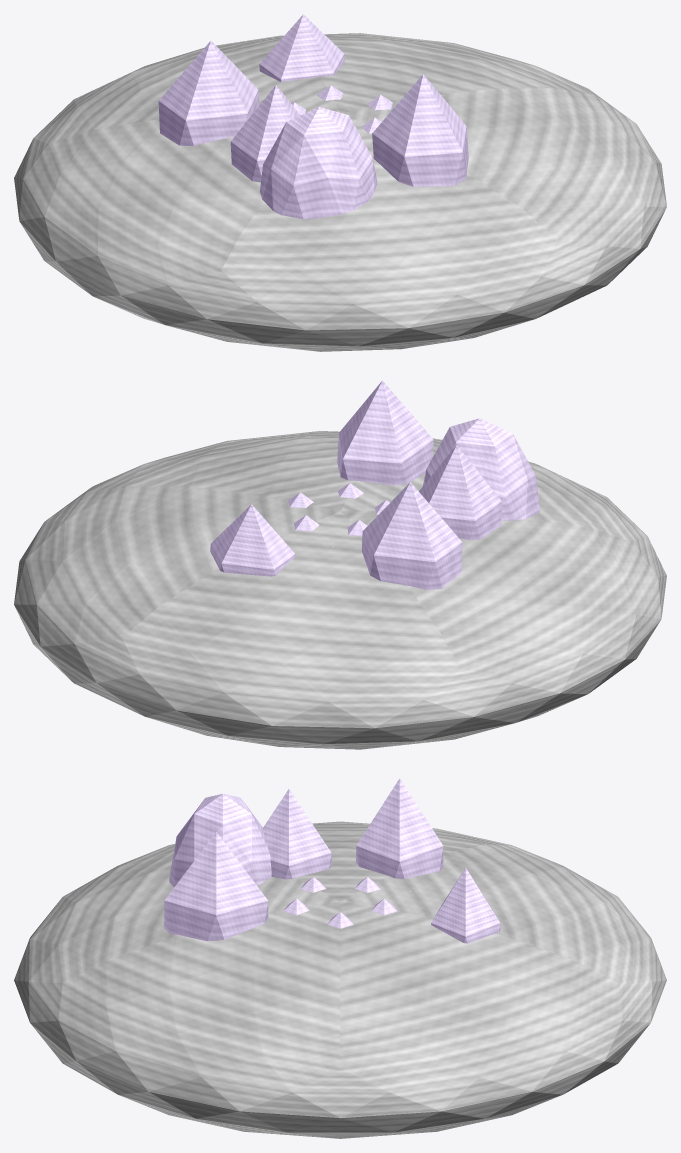
The model's file is sam_node_variant_a.glb.
3 renders of one model, top to bottom at view 1: azimuth 30°, elevation 25°; view 2: azimuth 150°, elevation 25°; view 3: azimuth 270°, elevation 25°, orthographic.
Parts seen in each view (by area): view 1: Resource node bedrock, Exposed ore formation.007, Exposed ore formation.008, Exposed ore formation.005, Exposed ore formation.003, Exposed ore formation.006; view 2: Resource node bedrock, Exposed ore formation.005, Exposed ore formation.008, Exposed ore formation.007, Exposed ore formation.006, Exposed ore formation.003; view 3: Resource node bedrock, Exposed ore formation.008, Exposed ore formation.005, Exposed ore formation.007, Exposed ore formation.006, Exposed ore formation.003.
Boxes of the visible parts, <box> form: Resource node bedrock: <box>14,33,666,351</box>; Exposed ore formation.007: <box>260,107,377,219</box>; Exposed ore formation.008: <box>372,74,468,186</box>; Exposed ore formation.005: <box>158,41,259,145</box>; Exposed ore formation.003: <box>259,14,344,81</box>; Exposed ore formation.006: <box>230,85,300,182</box>; Resource node bedrock: <box>14,431,666,749</box>; Exposed ore formation.005: <box>362,482,462,589</box>; Exposed ore formation.008: <box>337,380,433,485</box>; Exposed ore formation.007: <box>423,418,539,520</box>; Exposed ore formation.006: <box>419,445,501,540</box>; Exposed ore formation.003: <box>210,504,295,576</box>; Resource node bedrock: <box>14,821,666,1138</box>; Exposed ore formation.008: <box>164,832,268,941</box>; Exposed ore formation.005: <box>356,778,443,878</box>; Exposed ore formation.007: <box>169,793,271,887</box>; Exposed ore formation.006: <box>262,789,331,879</box>; Exposed ore formation.003: <box>431,868,500,943</box>.
Size of what is drawn, in the model's own units: 6.4 by 2.56 by 6.4.
Materials: 2 (2 with a texture image).
